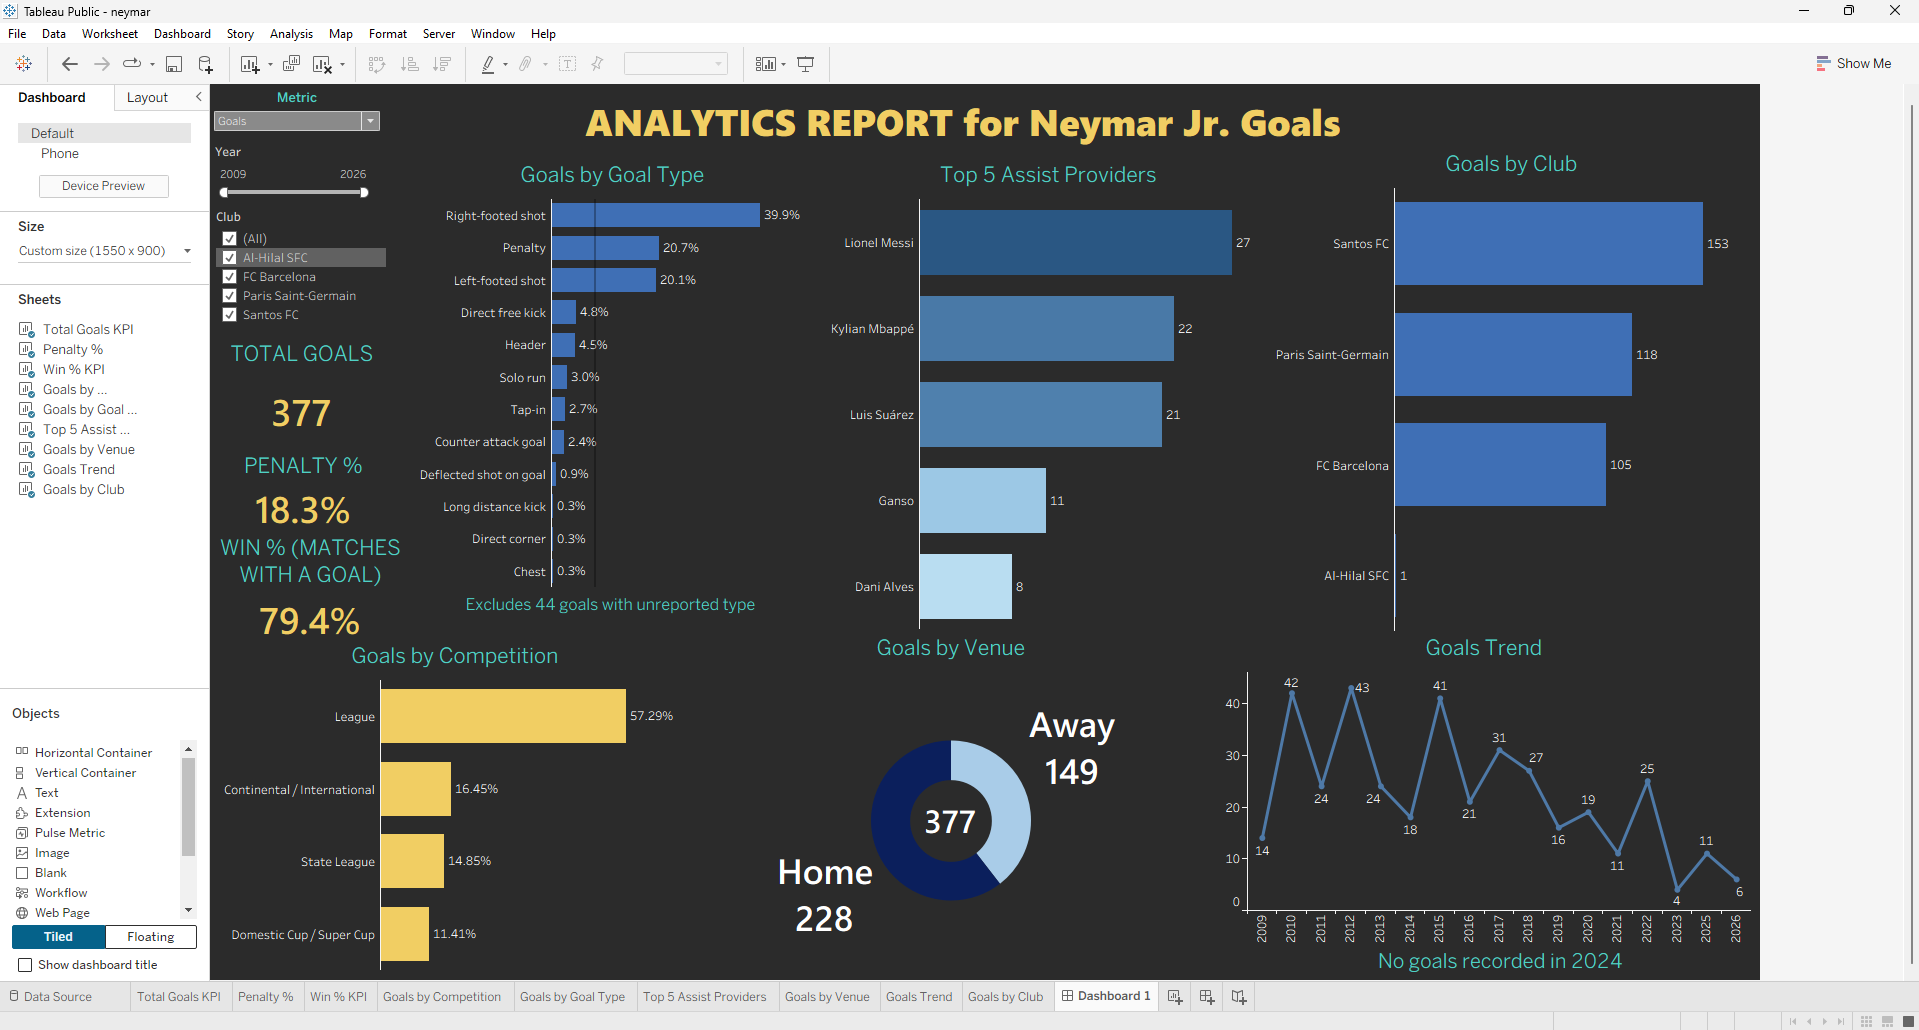

Layout of this report page (visuals, bound fields, positions):
{"tool":"tableau","page":{"name":"Dashboard 1","canvas":[1550,900],"ordinal":0},"visuals":[{"type":"text","box":[0,0,1550,900]},{"type":"text","box":[260.6,5.3,984,73.1]},{"type":"parameter","param":"[Parameters].[Parameter 0444253648494598]","box":[1.1,10,172.2,47]},{"type":"filter","title":"Top 5 Assist Providers","param":"[federated.1mjrkz80rf3l49154r5fn1jzq9jj].[none:Year:qk]","box":[4.6,63,158.4,62]},{"type":"worksheet","title":"Goals by Club","mark":"Automatic","rows":["Club"],"cols":["Goals"],"box":[1064,66,475,485]},{"type":"worksheet","title":"Goals by Goal Type","mark":"Bar","rows":["Goal_Type"],"cols":["Goals"],"box":[201,77,403,430]},{"type":"worksheet","title":"Top 5 Assist Providers","mark":"Bar","rows":["Assist_By"],"cols":["Goals"],"box":[609,77,459,472]},{"type":"filter","title":"Top 5 Assist Providers","param":"[federated.1mjrkz80rf3l49154r5fn1jzq9jj].[none:Club:nk]","box":[5.7,128,169.9,124]},{"type":"worksheet","title":"Total Goals KPI","mark":"Automatic","box":[3.4,256,178,110]},{"type":"worksheet","title":"Penalty %","mark":"Automatic","box":[7,368,173,80]},{"type":"worksheet","title":"Win % KPI","mark":"Automatic","box":[5,450,191,111]},{"type":"text","box":[237,507,327,34]},{"type":"worksheet","title":"Goals by Venue","mark":"Pie","rows":["Calculation_0444253642960899","Calculation_0444253643026437"],"box":[488,550,506,339]},{"type":"worksheet","title":"Goals Trend","mark":"Line","rows":["Calculation_0444253649068039"],"cols":["Date"],"box":[1007,550,534,320]},{"type":"worksheet","title":"Goals by Competition","mark":"Automatic","rows":["Competition_Type"],"cols":["Calculation_0444253649068039"],"box":[10,558,470,332]},{"type":"text","box":[1050,869,481,24]}]}

Visuals, with their boxes on the page's 1550x900 design canvas (x1, y1, x2, y2). These are canvas units, not pixel positions in the 1919x1030 screenshot, which may show the page scaled, cropped or inside an application window:
text: (0, 0, 1550, 900)
text: (261, 5, 1245, 78)
parameter: (1, 10, 173, 57)
"Top 5 Assist Providers" filter: (5, 63, 163, 125)
"Goals by Club" worksheet: (1064, 66, 1539, 551)
"Goals by Goal Type" worksheet (Bar marks): (201, 77, 604, 507)
"Top 5 Assist Providers" worksheet (Bar marks): (609, 77, 1068, 549)
"Top 5 Assist Providers" filter: (6, 128, 176, 252)
"Total Goals KPI" worksheet: (3, 256, 181, 366)
"Penalty %" worksheet: (7, 368, 180, 448)
"Win % KPI" worksheet: (5, 450, 196, 561)
text: (237, 507, 564, 541)
"Goals by Venue" worksheet (Pie marks): (488, 550, 994, 889)
"Goals Trend" worksheet (Line marks): (1007, 550, 1541, 870)
"Goals by Competition" worksheet: (10, 558, 480, 890)
text: (1050, 869, 1531, 893)
